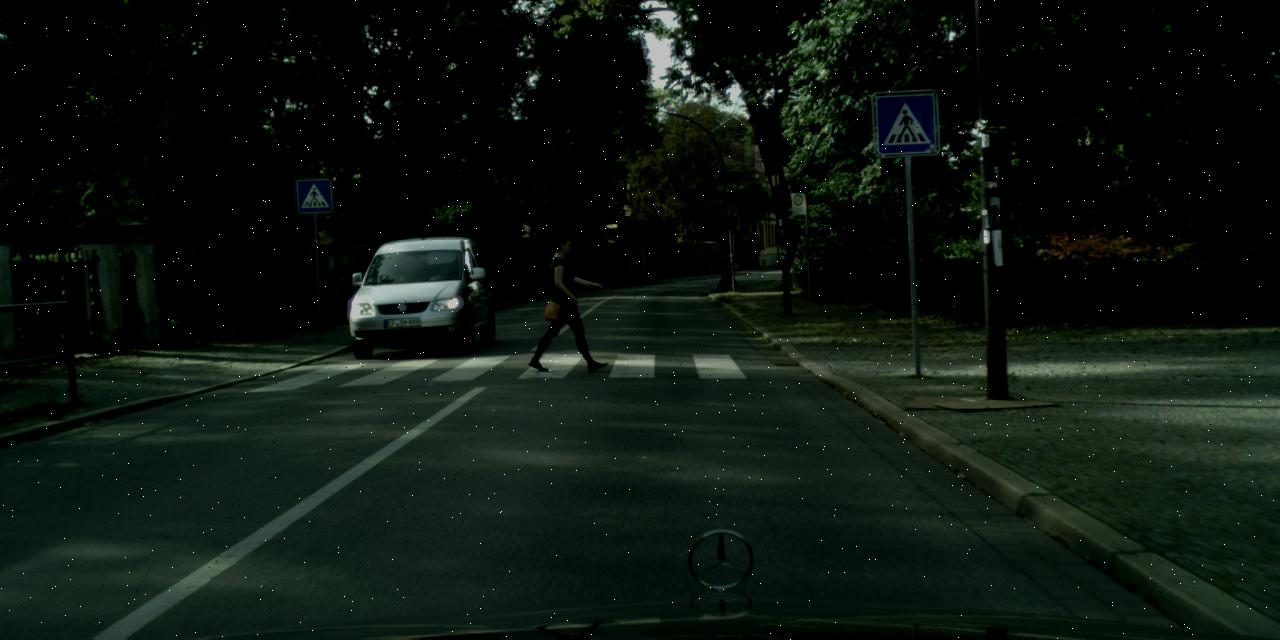ped: (536, 231, 592, 370), (711, 251, 724, 275)
